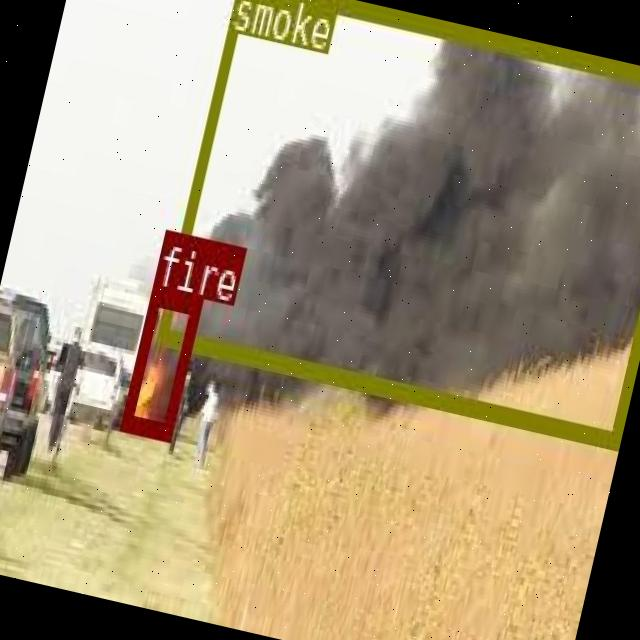fire: (119, 283, 201, 437)
smoke: (157, 0, 640, 443)
